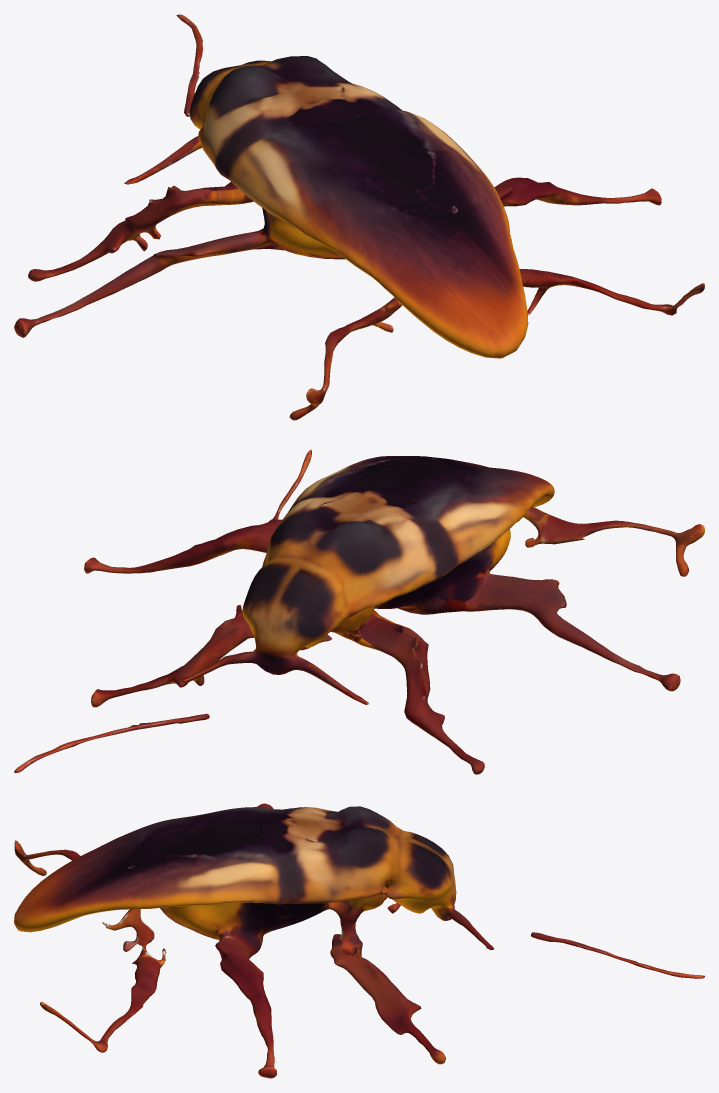
Rendered from cockroach_candidate_classic_1k.glb.
The picture shows the model from 3 angles, top to bottom: view 1: azimuth 30°, elevation 25°; view 2: azimuth 150°, elevation 25°; view 3: azimuth 270°, elevation 25°; orthographic projection. The views are drawn at different scales.
Parts seen in each view (by area): view 1: Object_2; view 2: Object_2; view 3: Object_2.
Boxes of the visible parts, x1,y1,x2,y2 form: Object_2: (14, 14, 704, 420); Object_2: (14, 449, 704, 774); Object_2: (14, 803, 704, 1078).
Size of the model in its own units: 0.0603 by 0.0193 by 0.0718.
Materials: 1 (1 with a texture image).
